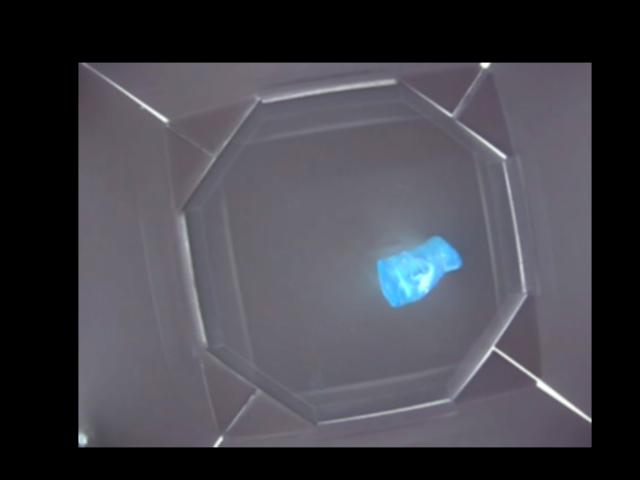Carrot: (377, 235, 460, 305)
